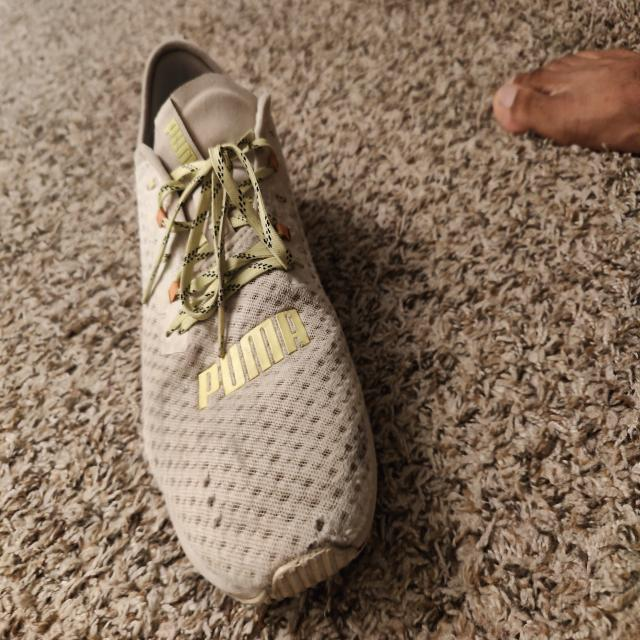white shoes: (138, 45, 316, 583)
